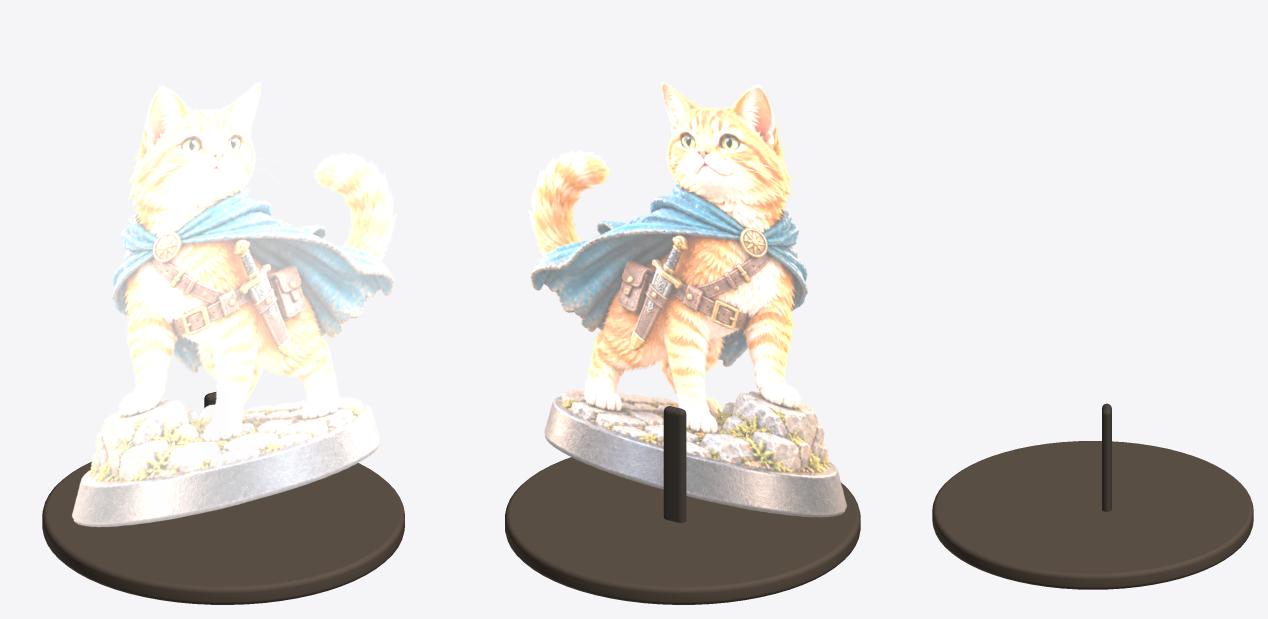
Rendered from gato_aventureiro_2_5d.glb.
The picture shows the model from 3 angles, left to right: view 1: azimuth 30°, elevation 25°; view 2: azimuth 150°, elevation 25°; view 3: azimuth 270°, elevation 25°; orthographic projection. The views are drawn at different scales.
Visible parts, largest first — view 1: Gato aventureiro | recorte frontal 2.5D, Base física circular; view 2: Gato aventureiro | recorte frontal 2.5D, Base física circular, Haste traseira de suporte; view 3: Base física circular, Haste traseira de suporte.
Part boxes in pixels (bbox=[...]): Gato aventureiro | recorte frontal 2.5D: bbox=[72, 81, 396, 527]; Base física circular: bbox=[42, 461, 404, 604]; Gato aventureiro | recorte frontal 2.5D: bbox=[528, 80, 846, 517]; Base física circular: bbox=[505, 457, 860, 604]; Haste traseira de suporte: bbox=[663, 406, 686, 522]; Base física circular: bbox=[932, 441, 1253, 589]; Haste traseira de suporte: bbox=[1102, 403, 1111, 511].
Bounding box in the file's own units: 1.12 × 1.15 × 0.81.
Materials: 3 (1 with a texture image).
